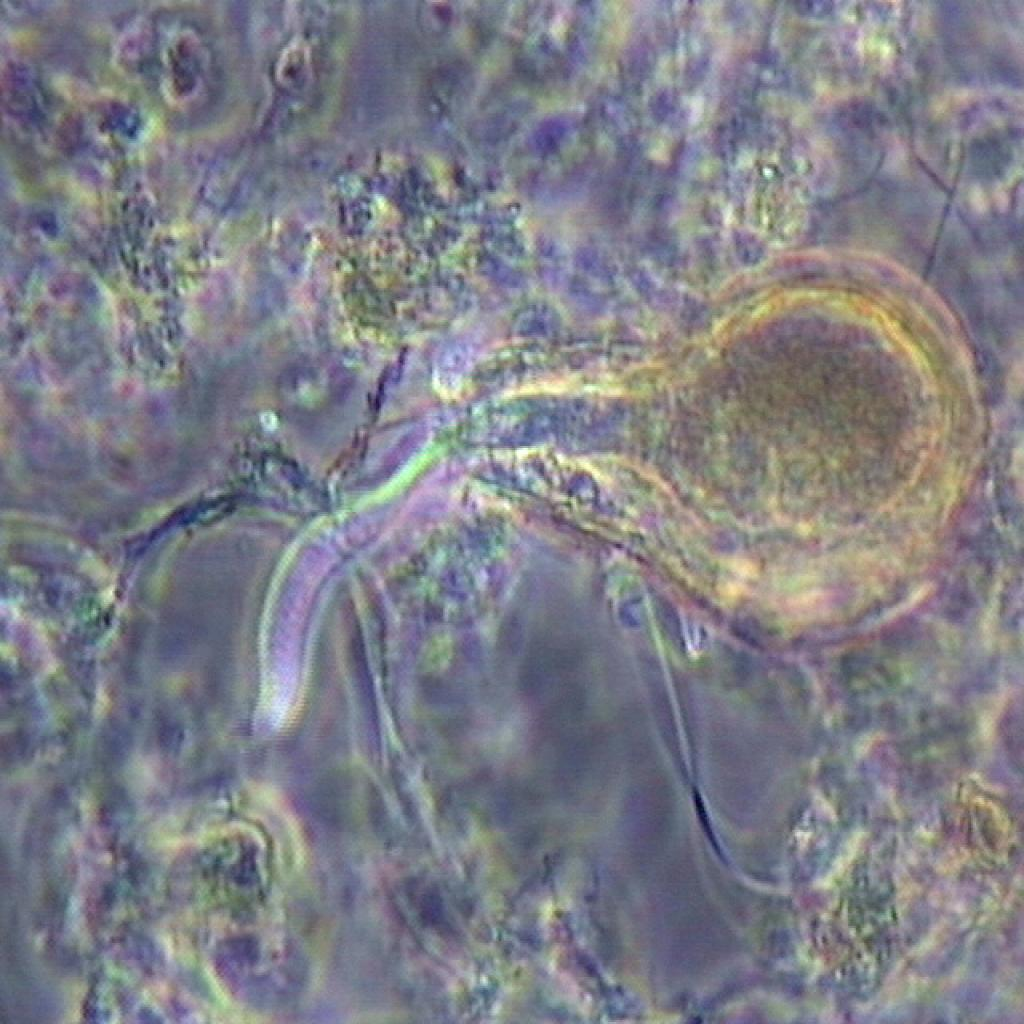Chaetopira: (238, 256, 978, 683)
